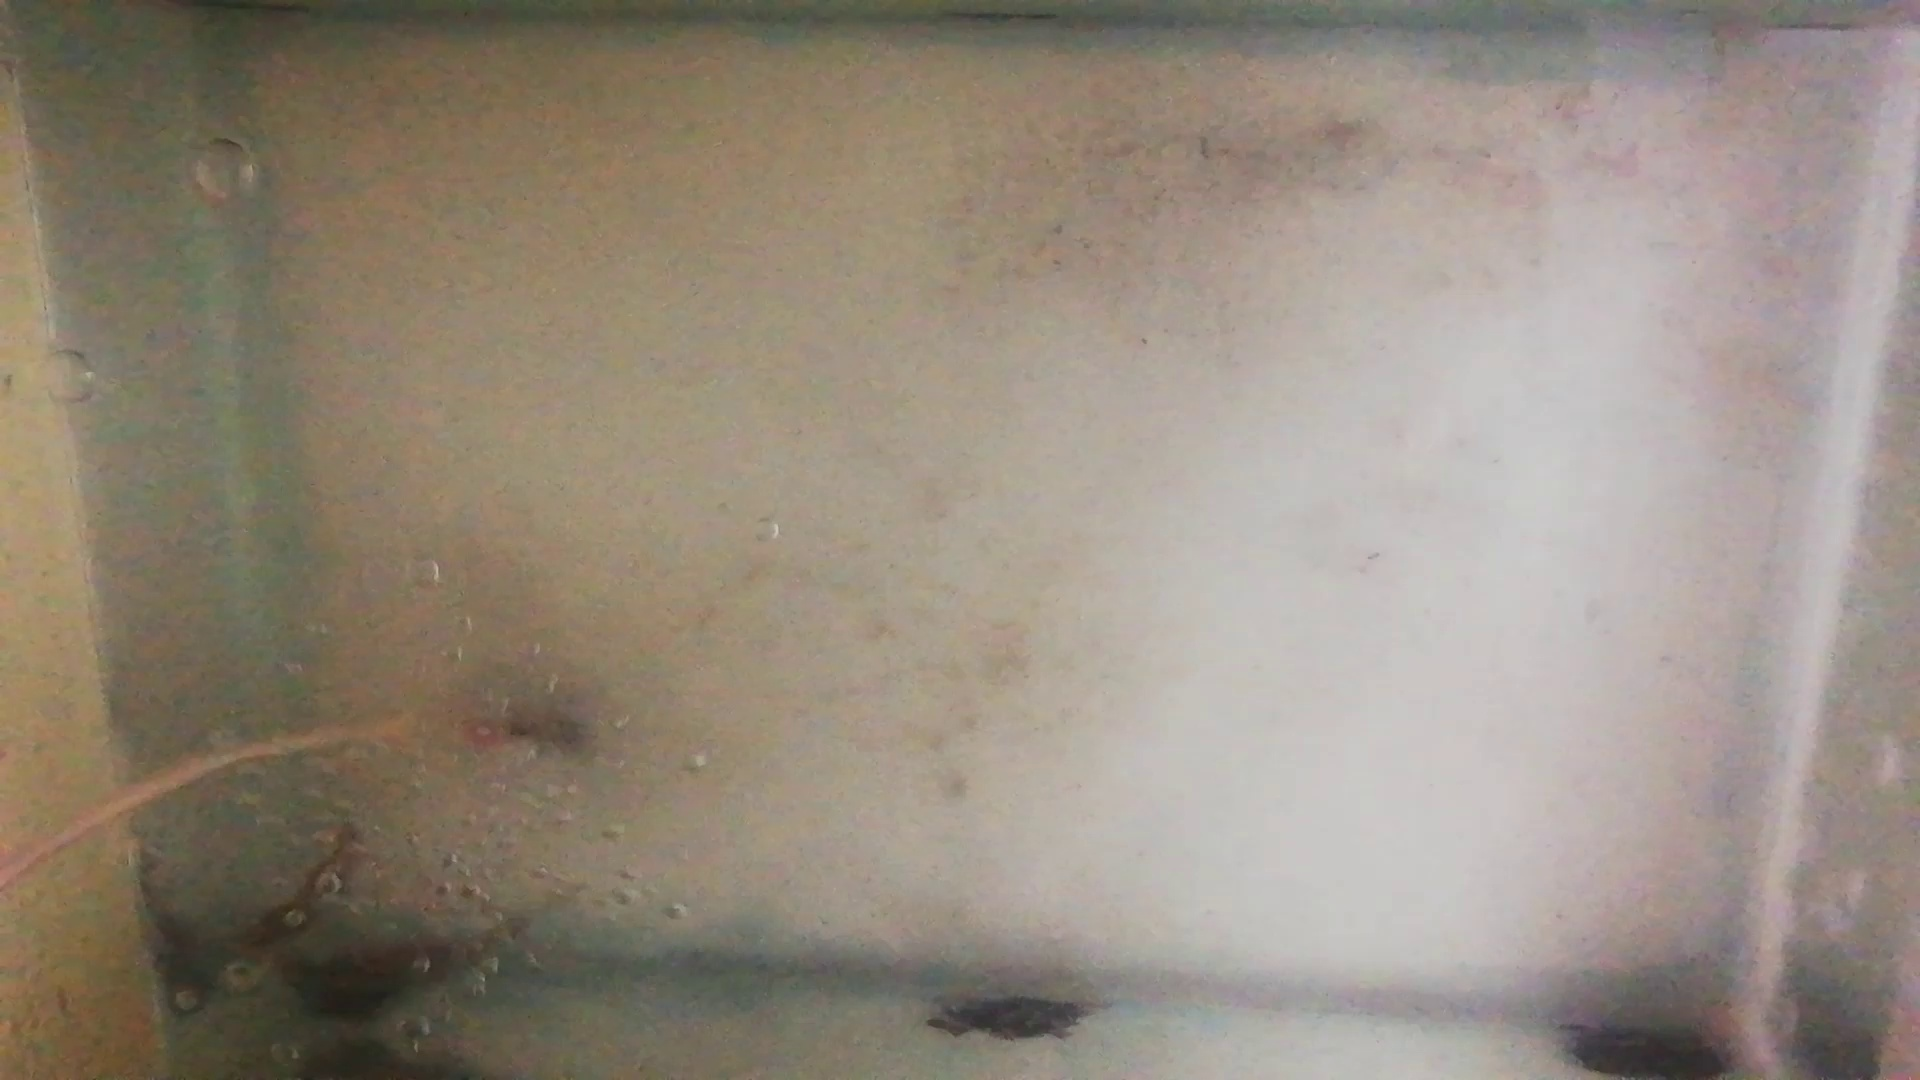fish: (295, 923, 527, 1021), (243, 822, 368, 942)
